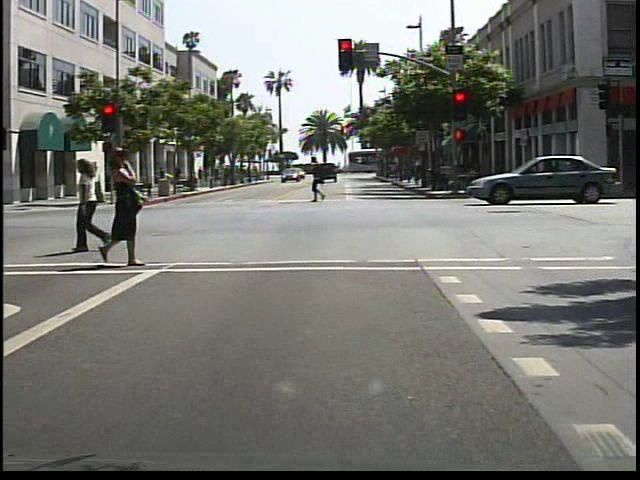person: (102, 140, 157, 269), (70, 156, 117, 254), (304, 155, 333, 204), (2, 147, 8, 275), (168, 162, 183, 191)
